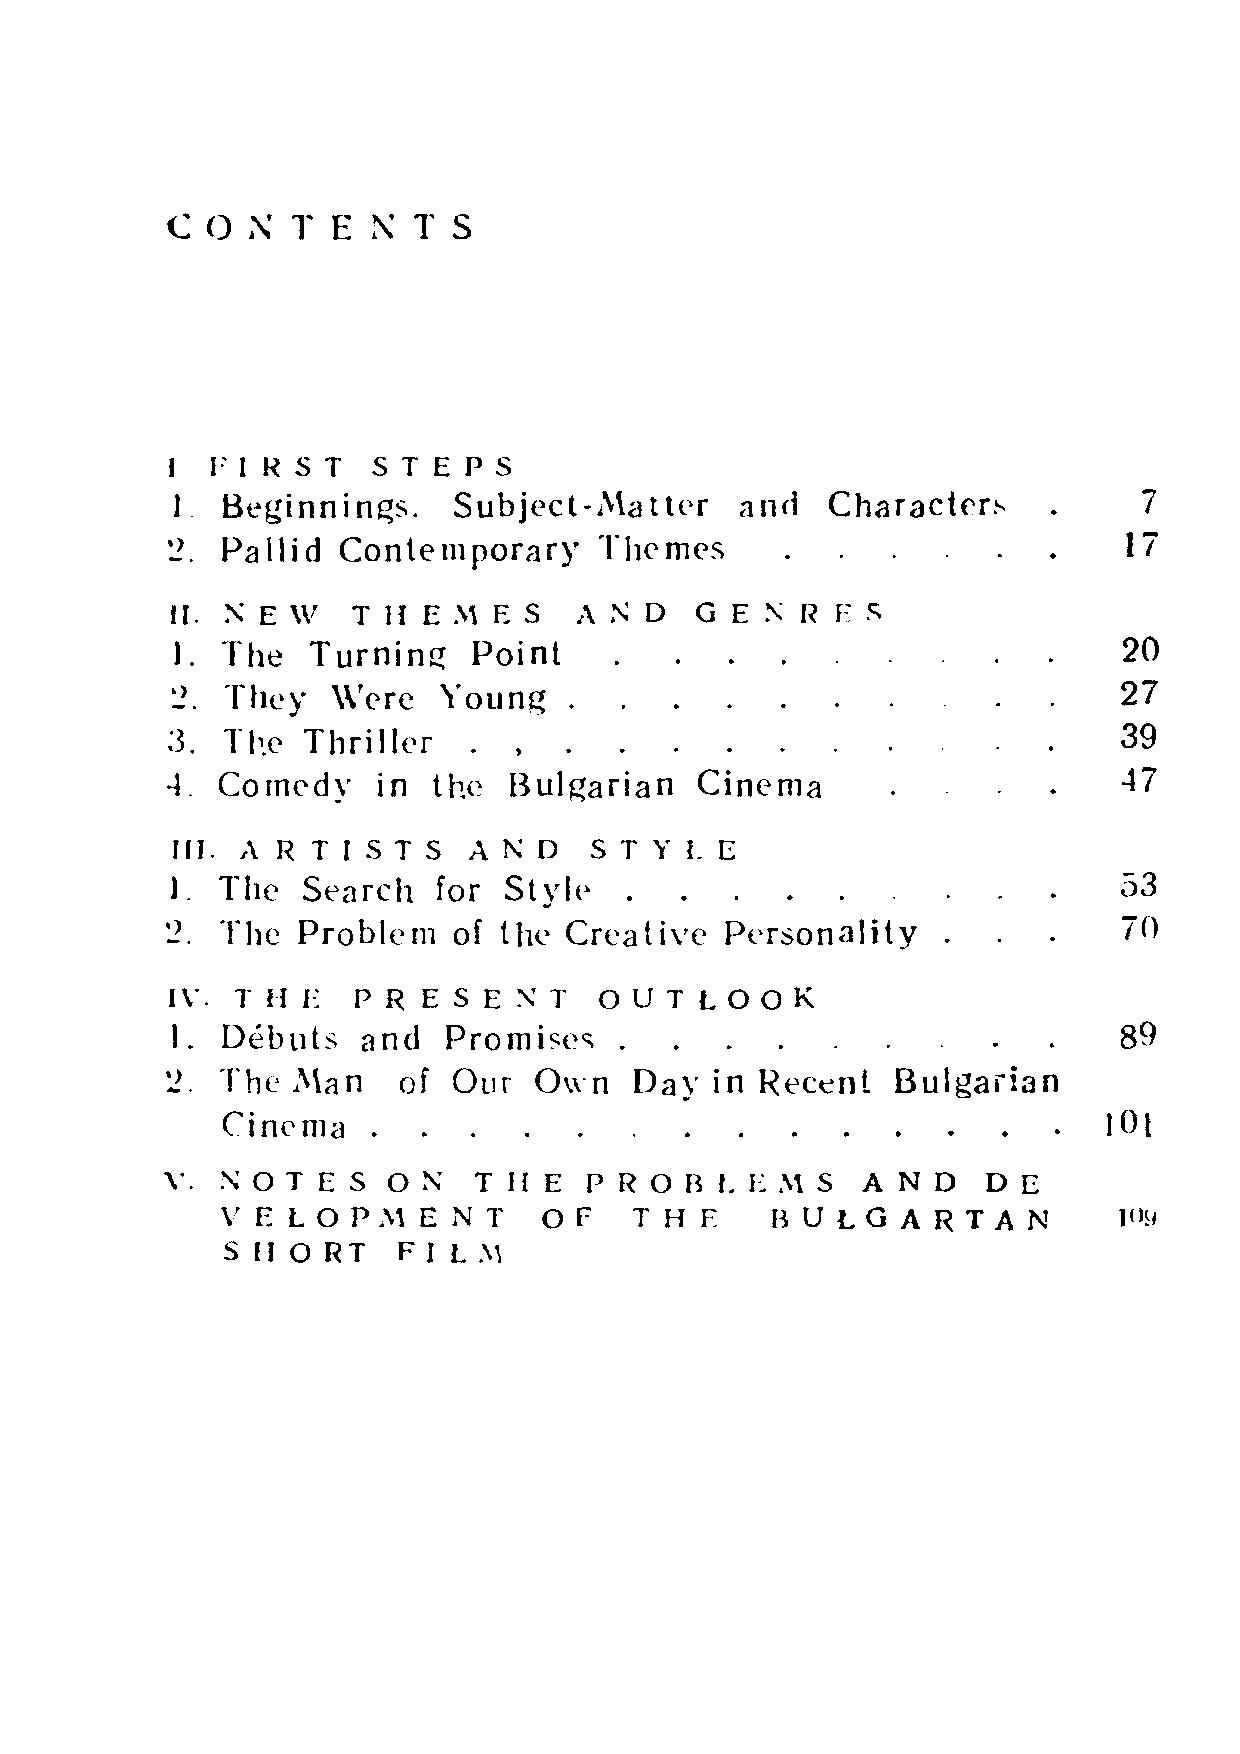TOC_chapter: (160, 1164, 1051, 1267), (162, 1064, 1070, 1139), (158, 484, 1015, 525), (162, 914, 919, 951), (164, 762, 829, 801), (164, 595, 888, 627), (166, 527, 742, 568), (162, 977, 815, 1012), (166, 829, 743, 866), (162, 867, 599, 906), (158, 442, 525, 483), (164, 1021, 601, 1053), (162, 635, 568, 668), (164, 680, 549, 715), (166, 723, 439, 760)
TOC_pagenumber: (1099, 1100, 1158, 1141), (1115, 1193, 1157, 1235), (1118, 523, 1162, 560), (1117, 1011, 1155, 1049), (1121, 633, 1159, 668), (1117, 868, 1158, 899), (1117, 911, 1158, 939), (1118, 676, 1155, 707), (1121, 719, 1158, 750), (1118, 764, 1157, 792), (1135, 484, 1164, 519)
chapter: (164, 201, 476, 250)
